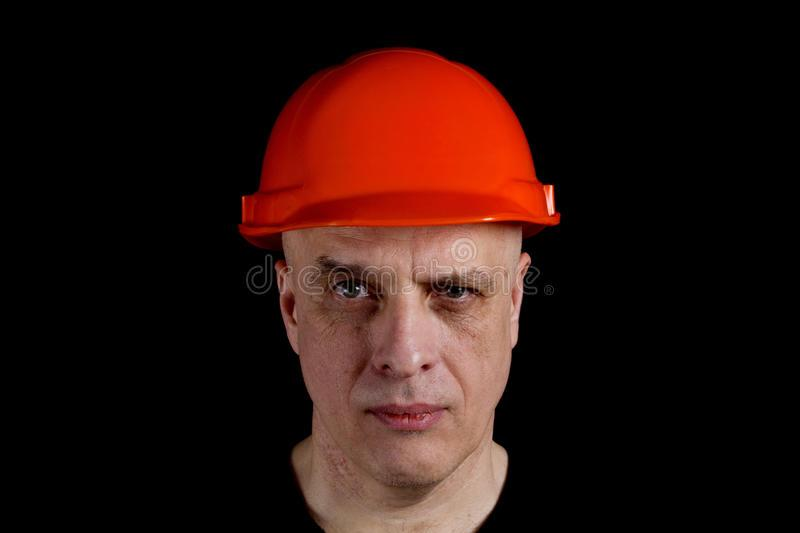helmet: (238, 46, 564, 252)
